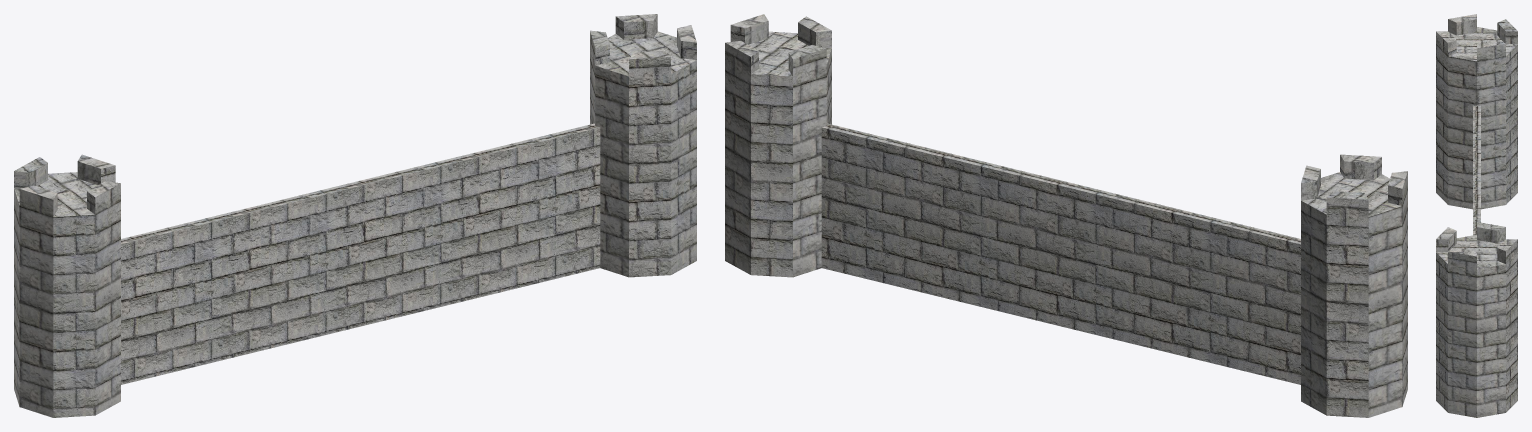
The model's file is Wall.fbx.
The picture shows the model from 3 angles, left to right: view 1: azimuth 30°, elevation 25°; view 2: azimuth 150°, elevation 25°; view 3: azimuth 270°, elevation 25°; orthographic projection. The views are drawn at different scales.
Visible parts, largest first — view 1: pCylinder3; view 2: pCylinder3; view 3: pCylinder3.
Boxes of the visible parts, left/top/right/bottom form: pCylinder3: left=14, top=14, right=696, bottom=417; pCylinder3: left=725, top=14, right=1407, bottom=417; pCylinder3: left=1436, top=14, right=1517, bottom=417.
Size of the model in its own units: 7 by 2.17 by 1.
Materials: 1 (1 with a texture image).
